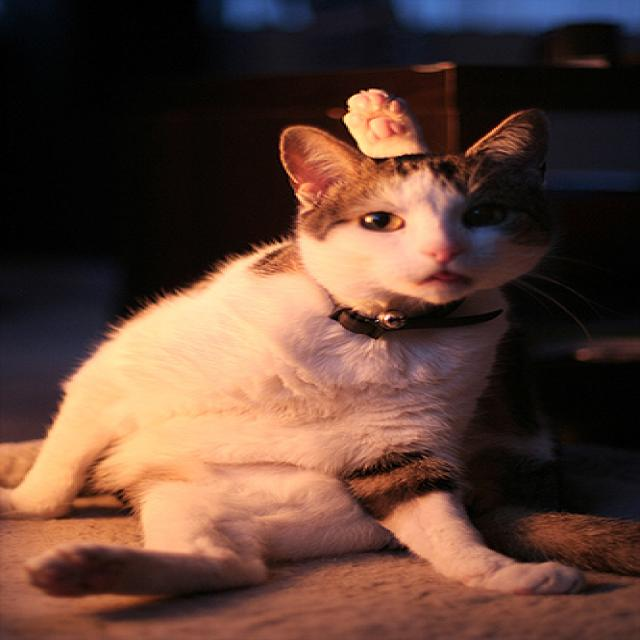cat: (1, 86, 631, 600)
